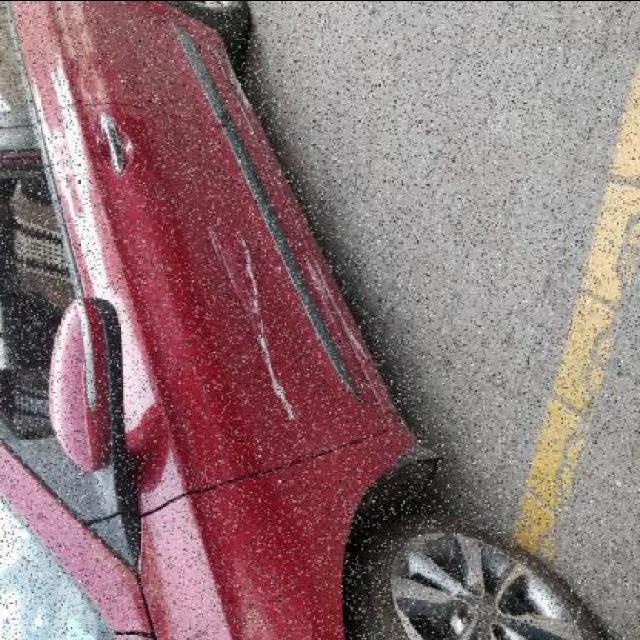doorouter-dent: (109, 119, 387, 446)
